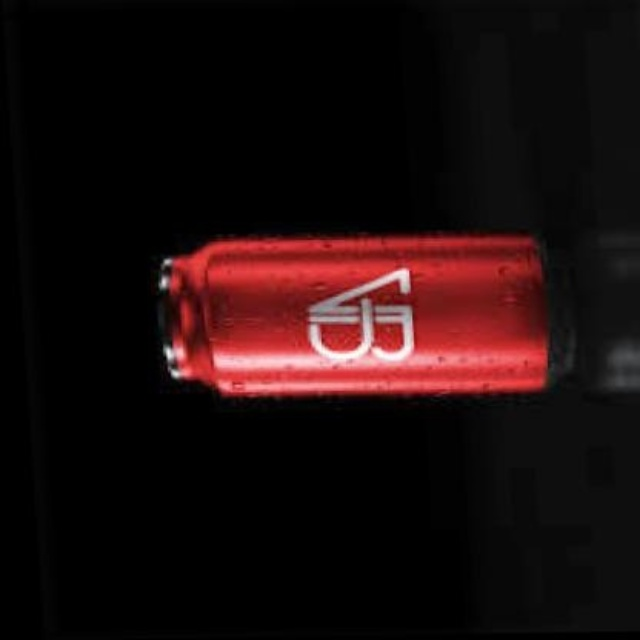trash: (158, 234, 546, 395)
